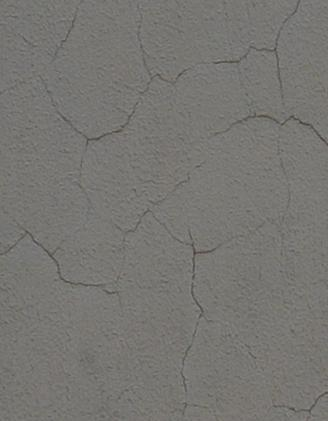fissura: (7, 7, 328, 421)
